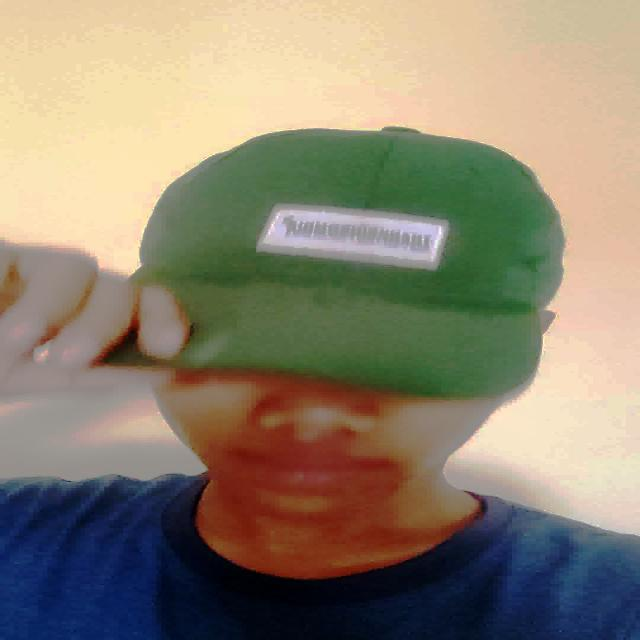TOPI: (93, 122, 573, 404)
